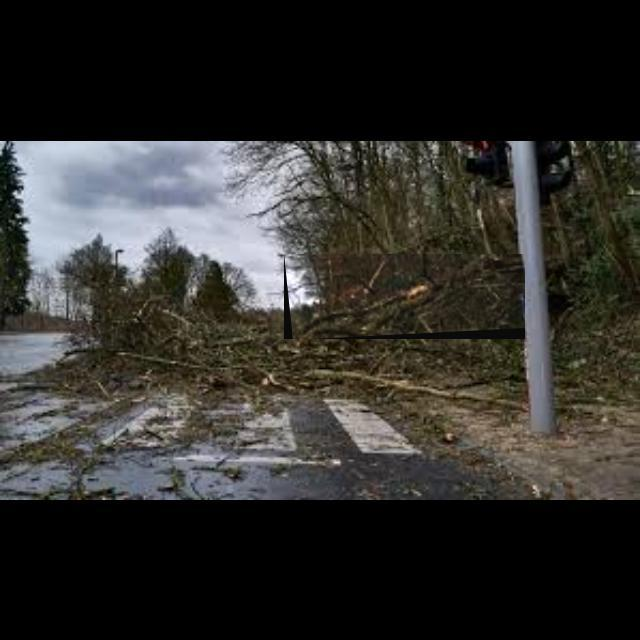fallen_tree: (284, 254, 526, 340)
